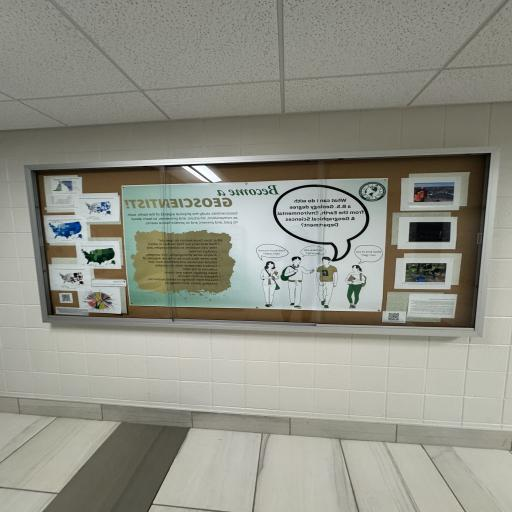poster board: (32, 143, 501, 336)
